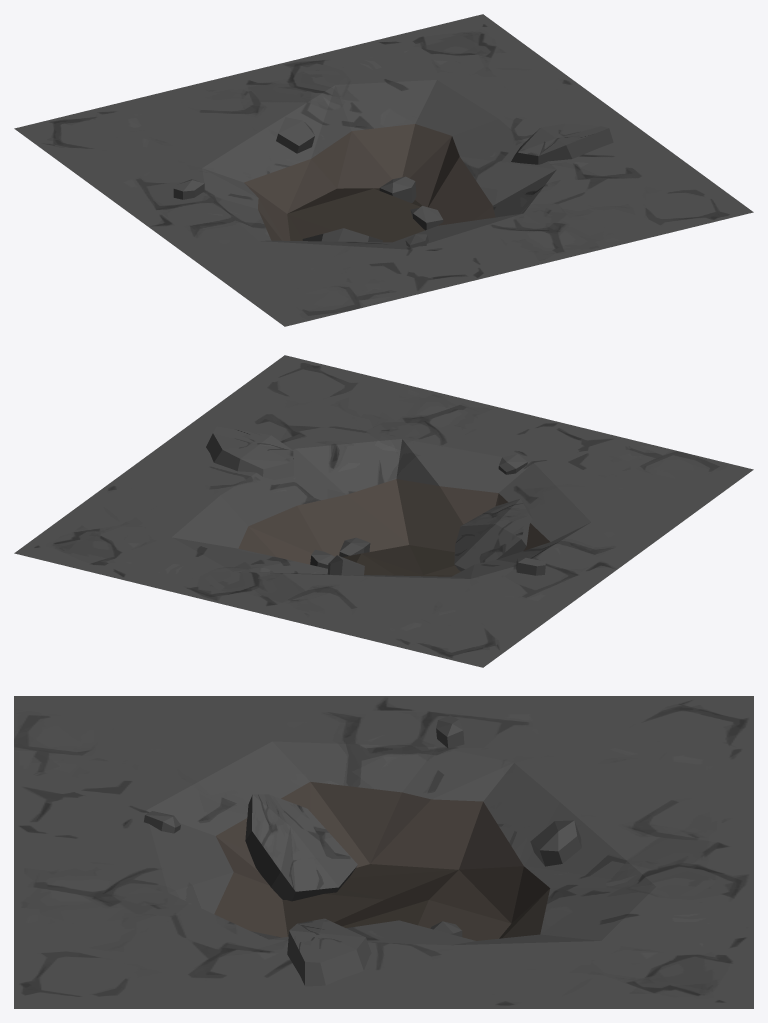
Rendered from SM_Env_City_Road_Damaged_02.fbx.
3 renders of one model, top to bottom at view 1: azimuth 30°, elevation 25°; view 2: azimuth 150°, elevation 25°; view 3: azimuth 270°, elevation 25°, orthographic. The views are drawn at different scales.
Visible parts, largest first — view 1: SM_Env_City_Road_Damaged_02; view 2: SM_Env_City_Road_Damaged_02; view 3: SM_Env_City_Road_Damaged_02.
Part boxes in pixels (x1,y1,x2,y2): SM_Env_City_Road_Damaged_02: (14, 14, 753, 326); SM_Env_City_Road_Damaged_02: (14, 355, 753, 667); SM_Env_City_Road_Damaged_02: (14, 696, 753, 1008).
Bounding box in the file's own units: 5 × 0.868 × 5.
